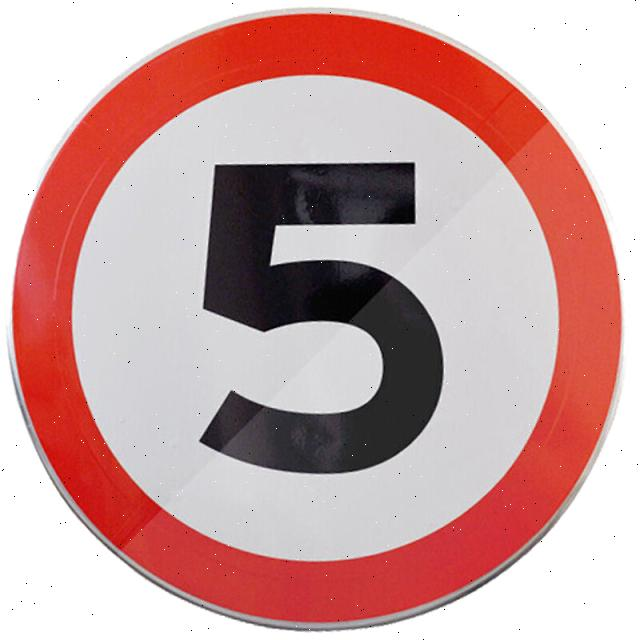speed limit 10: (5, 9, 622, 635)
